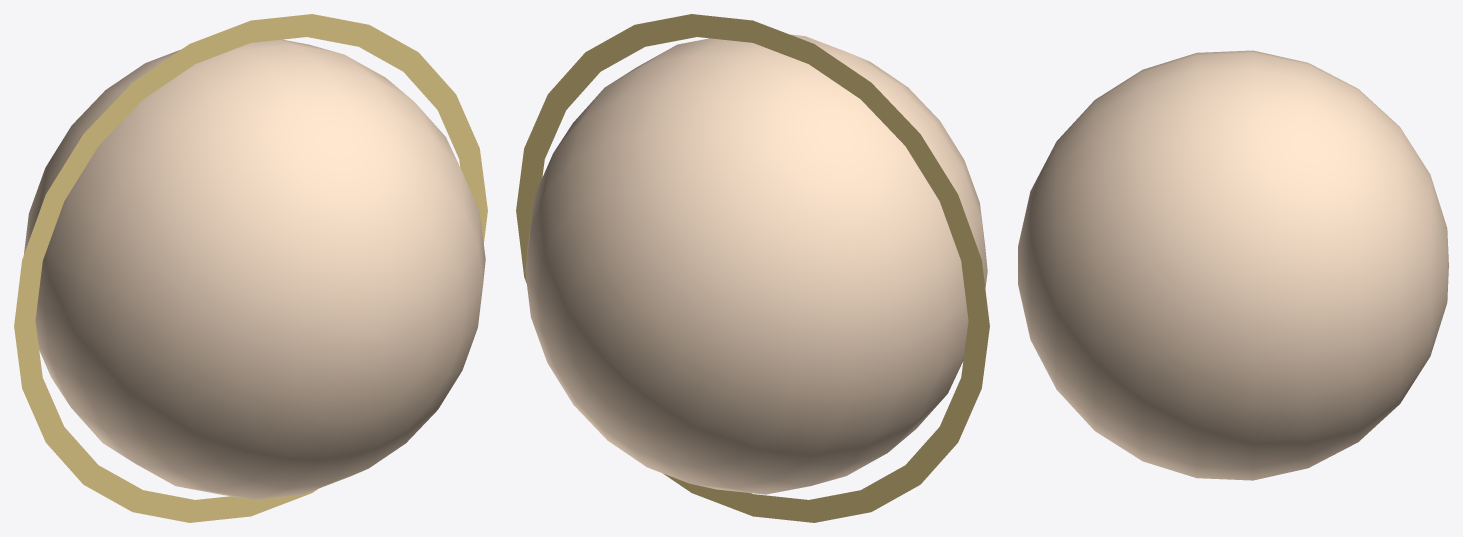
Rendered from saturn.dae.
3 views of the same model, side by side, from view 1: azimuth 30°, elevation 25°; view 2: azimuth 150°, elevation 25°; view 3: azimuth 270°, elevation 25° (orthographic). The views are drawn at different scales.
Visible parts, largest first — view 1: group_0 (×2); view 2: group_0 (×2); view 3: group_0.
Part boxes in pixels (x1=…): group_0 (×2): x1=14, y1=14, x2=487, y2=522; group_0 (×2): x1=516, y1=14, x2=989, y2=522; group_0: x1=1018, y1=50, x2=1448, y2=480.
Size of the model in its own units: 2376 by 2004 by 2376.
